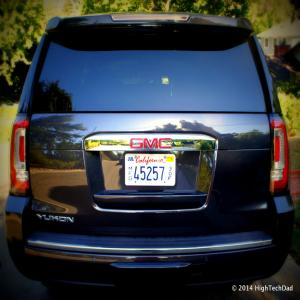Vehicle-registration-plate: (126, 155, 176, 187)
